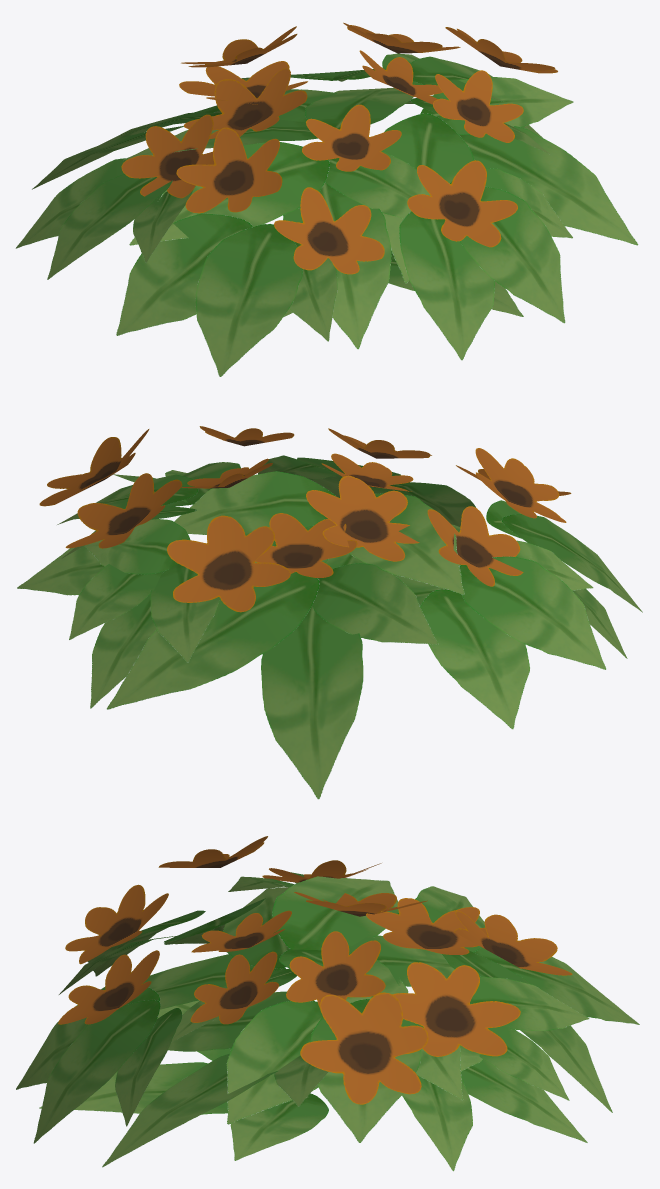
File: SM_Yellow_01.fbx
3 renders of one model, top to bottom at view 1: azimuth 30°, elevation 25°; view 2: azimuth 150°, elevation 25°; view 3: azimuth 270°, elevation 25°, orthographic. The views are drawn at different scales.
Visible parts, largest first — view 1: Bush_Yellow_1; view 2: Bush_Yellow_1; view 3: Bush_Yellow_1.
Part boxes in pixels (<box>): Bush_Yellow_1: <box>15,22,638,376</box>; Bush_Yellow_1: <box>17,426,642,799</box>; Bush_Yellow_1: <box>16,836,639,1171</box>.
Size of the model in its own units: 126 by 45.35 by 118.
1 material, 1 textured.
